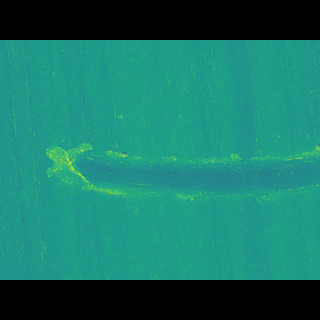Loch: (42, 146, 320, 194)
